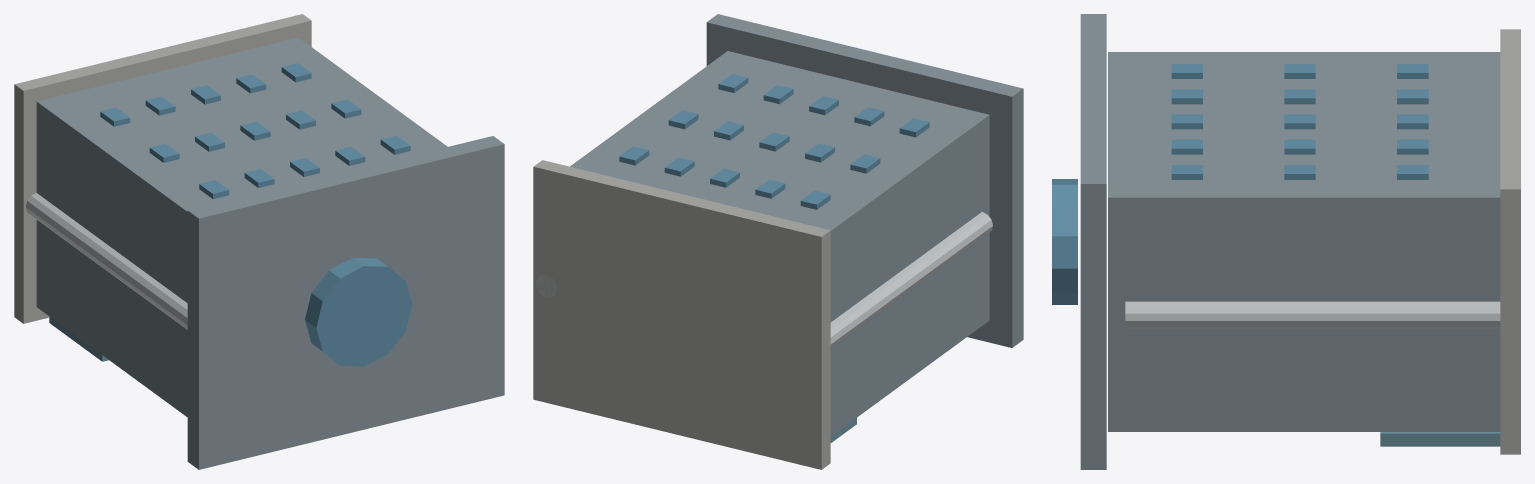
The model's file is AGE_VIII_commercial.glb.
The picture shows the model from 3 angles, left to right: view 1: azimuth 30°, elevation 25°; view 2: azimuth 150°, elevation 25°; view 3: azimuth 270°, elevation 25°; orthographic projection. The views are drawn at different scales.
Parts seen in each view (by area): view 1: world; view 2: world; view 3: world.
Part boxes in pixels (x1=…): world: x1=14, y1=14, x2=504, y2=469; world: x1=533, y1=14, x2=1023, y2=469; world: x1=1052, y1=14, x2=1520, y2=469.
Size of the model in its own units: 7 by 5.5 by 8.16.
